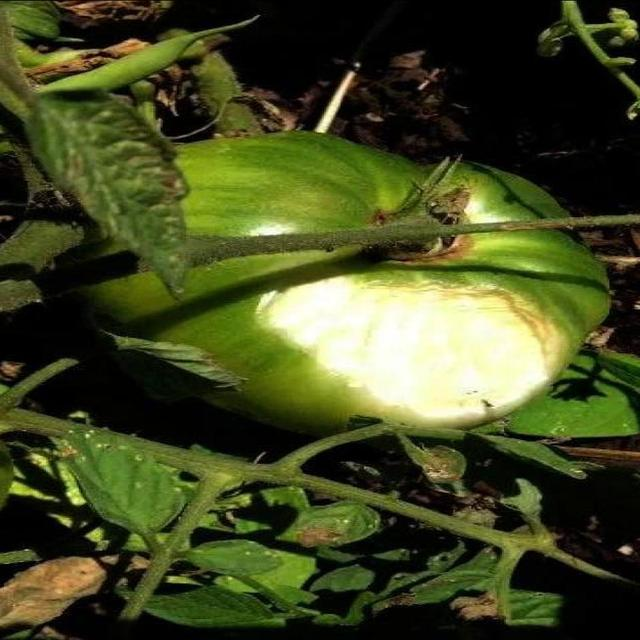Sunscald Fruit: (172, 189, 372, 282)
